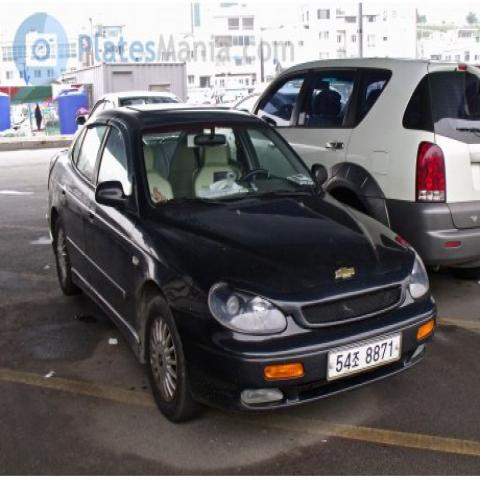LP: (326, 322, 406, 394)
